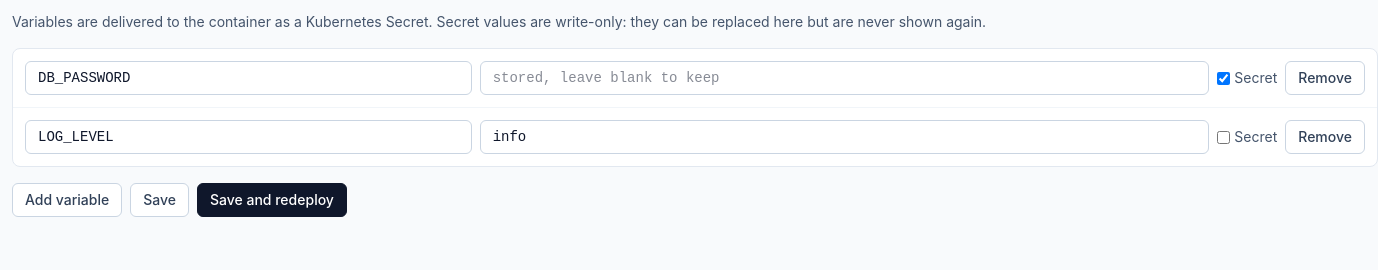
Test: EnvTab › saves and then redeploys the live image
This screenshot has width=1378, height=270.
Click the button "Save and redeploy": (272, 200) [197,183,347,217]
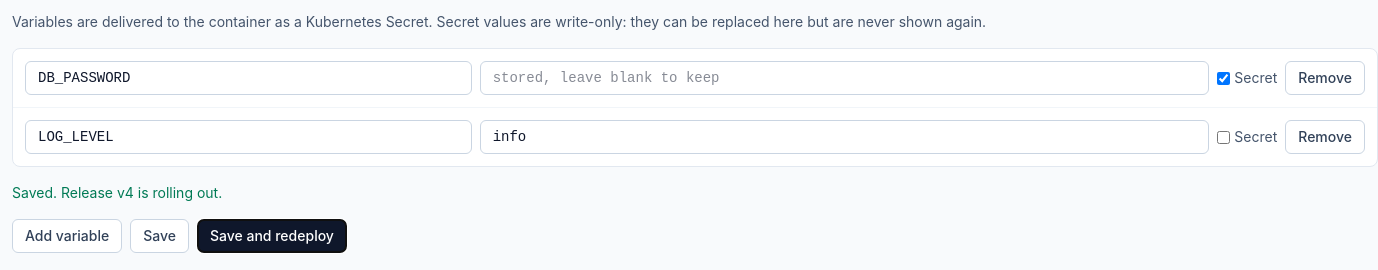
Now the text "Saved. Release v4 is rolling out." is shown, box [12,184,222,201]
